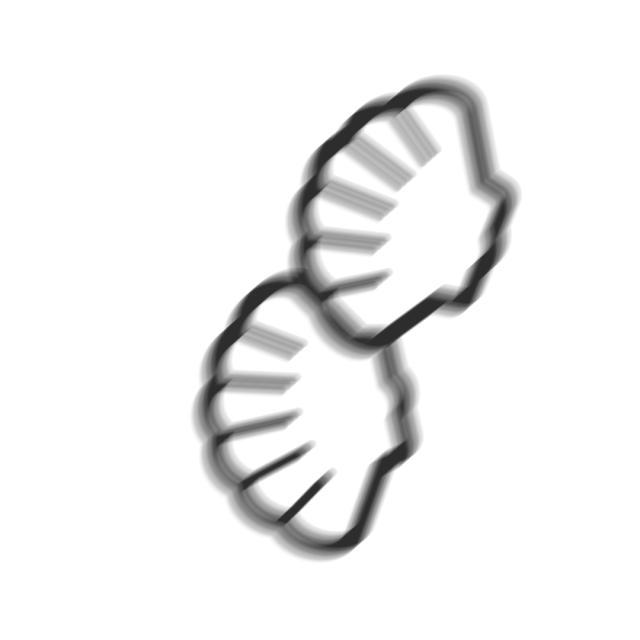shell: (184, 265, 431, 566), (282, 71, 528, 366)
